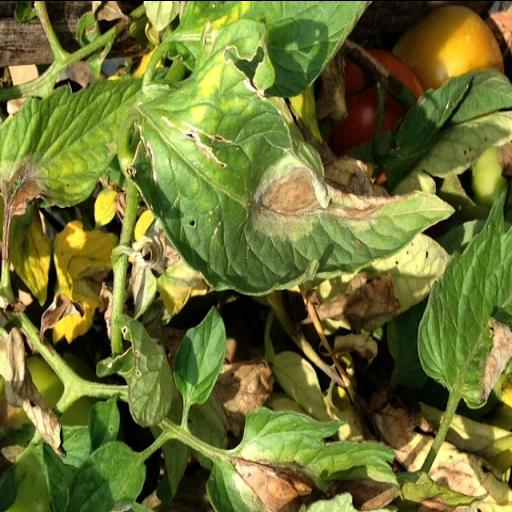disease_tomato: (111, 65, 453, 287), (417, 178, 512, 432), (4, 70, 154, 228), (196, 414, 398, 511)
